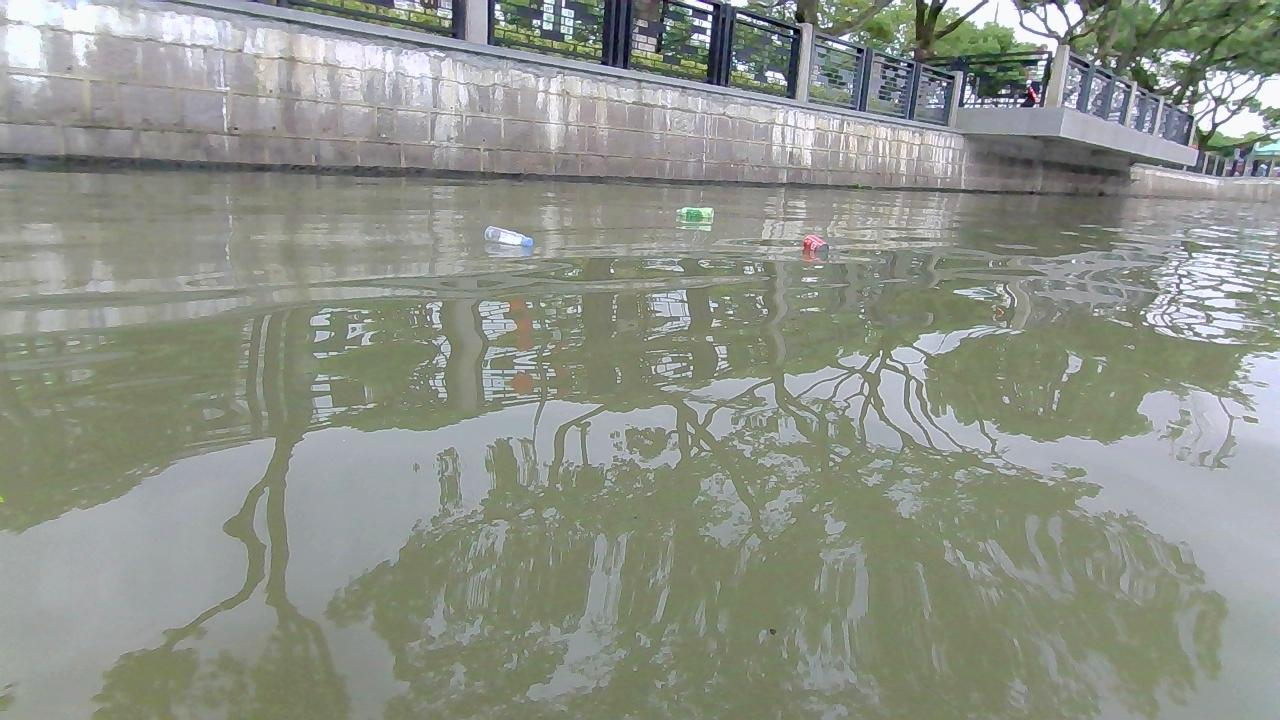Metal: (803, 234, 830, 253)
Plastic: (483, 225, 534, 246), (675, 206, 715, 218)
